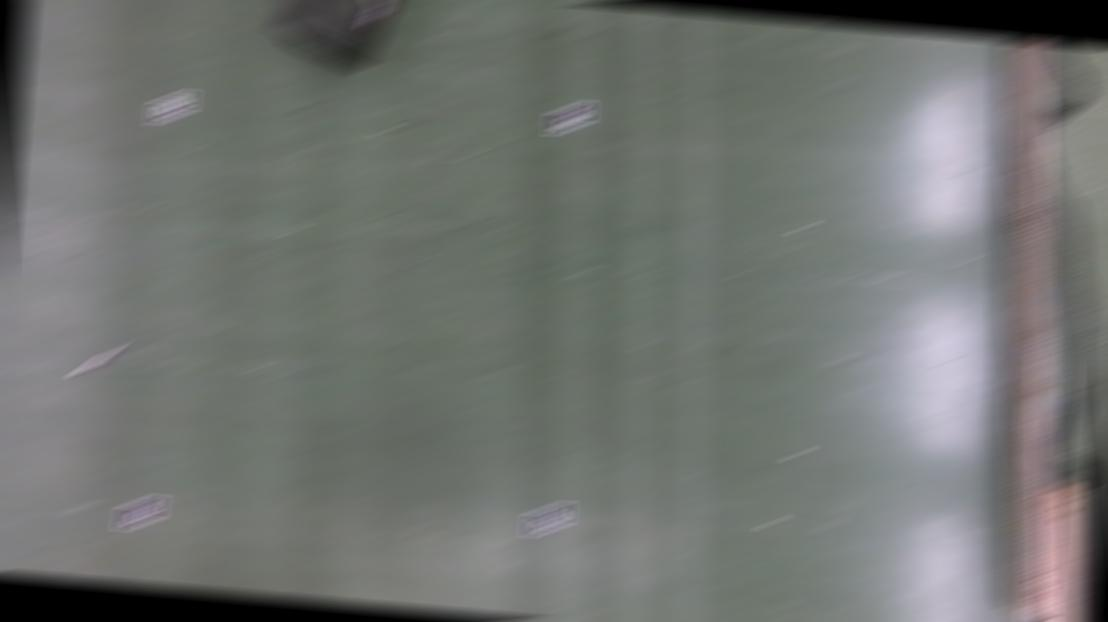probes: (74, 342, 122, 374)
rako: (264, 1, 414, 74)
